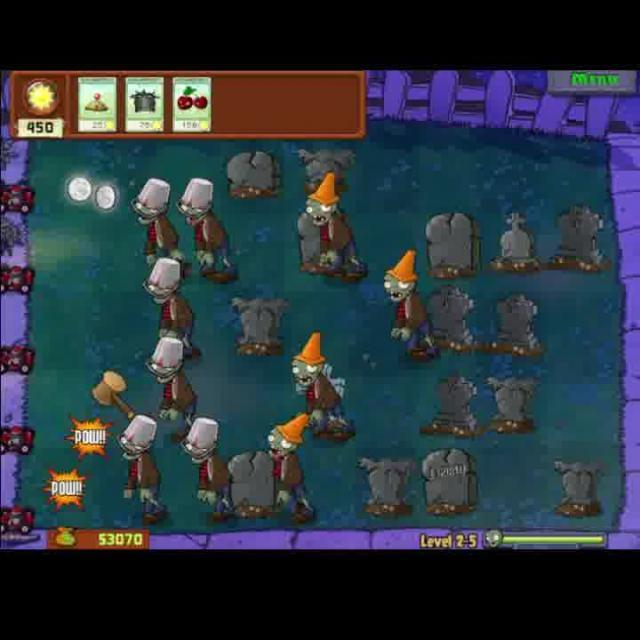coins: (66, 170, 92, 206), (95, 181, 116, 220)
zombies: (290, 169, 366, 283), (378, 241, 441, 368), (180, 409, 244, 523), (285, 338, 355, 442), (174, 175, 238, 285), (143, 332, 204, 440), (141, 258, 201, 366), (108, 412, 166, 522), (262, 414, 315, 526), (126, 175, 185, 272)
